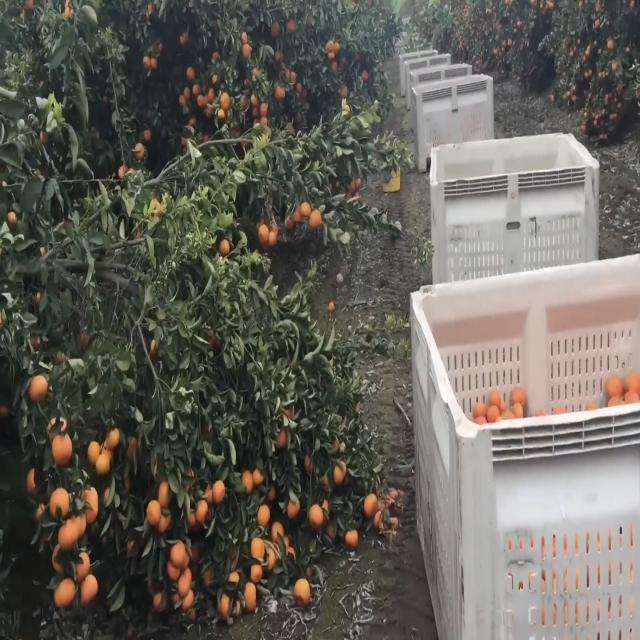Jeruk Sudah Matang: (48, 422, 78, 472), (86, 437, 111, 480), (78, 568, 102, 612), (46, 486, 74, 518), (57, 521, 85, 550), (54, 576, 78, 608), (28, 372, 48, 410), (292, 575, 314, 609), (72, 548, 94, 580), (144, 495, 164, 526), (170, 538, 189, 570), (242, 580, 262, 610), (362, 488, 380, 521), (249, 532, 267, 564), (156, 476, 174, 507), (238, 462, 254, 496), (308, 500, 326, 530), (256, 500, 273, 530), (194, 496, 211, 526), (209, 476, 227, 504), (332, 458, 349, 487), (255, 221, 272, 247), (298, 196, 314, 222), (249, 560, 265, 585), (307, 208, 324, 228), (218, 237, 235, 257), (344, 523, 358, 547), (218, 88, 232, 112)
